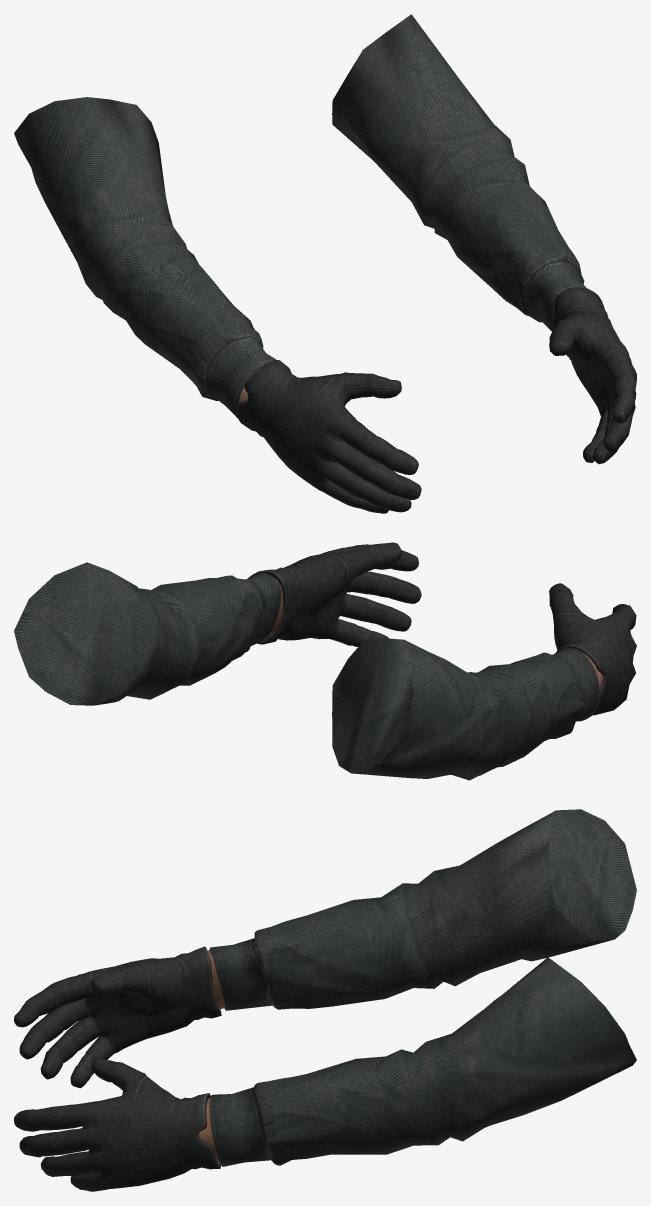
Rendered from fps_arms.glb.
3 views of the same model, one above another, from view 1: azimuth 30°, elevation 25°; view 2: azimuth 150°, elevation 25°; view 3: azimuth 270°, elevation 25° (orthographic).
Parts seen in each view (by area): view 1: mesh_Mat_0; view 2: mesh_Mat_0; view 3: mesh_Mat_0.
Part boxes in pixels (bbox=[...]): mesh_Mat_0: bbox=[14, 14, 636, 513]; mesh_Mat_0: bbox=[14, 542, 636, 780]; mesh_Mat_0: bbox=[14, 809, 636, 1191].
Size of the model in its own units: 54.81 by 31.43 by 70.97.
Materials: 1 (1 with a texture image).
